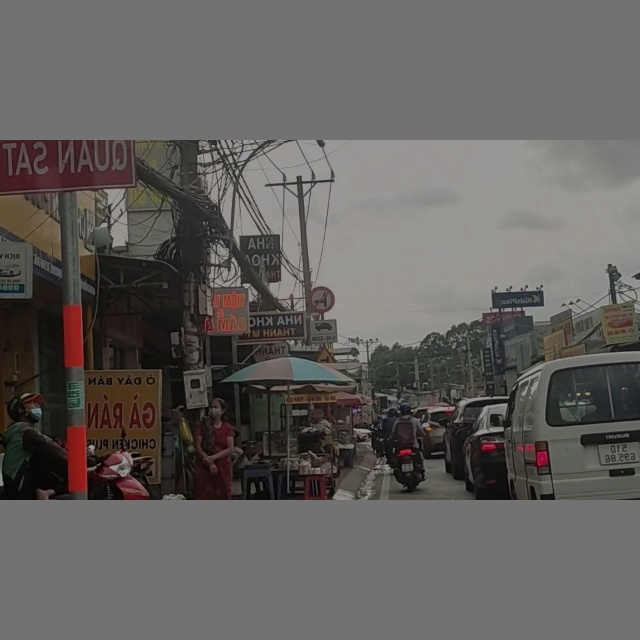P.139: (307, 287, 335, 315)
S.505a*Xe tai: (305, 319, 337, 343)
W.205b: (309, 348, 339, 364)
